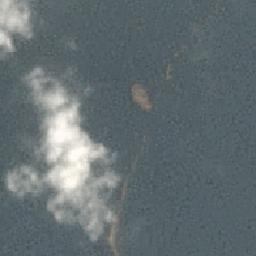cloud: (19, 65, 100, 163), (4, 164, 111, 225), (1, 1, 42, 56)
debris: (105, 200, 123, 256), (126, 82, 152, 113)
